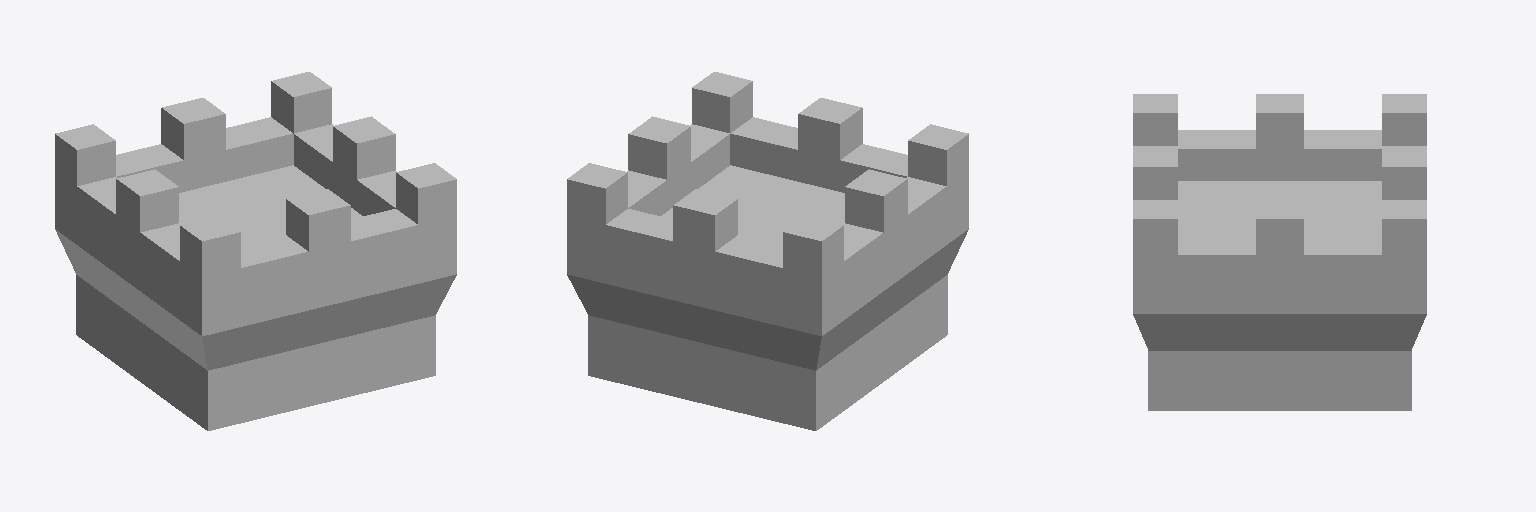
Rendered from towerDefense_002.obj.
3 views of the same model, side by side, from view 1: azimuth 30°, elevation 25°; view 2: azimuth 150°, elevation 25°; view 3: azimuth 270°, elevation 25° (orthographic).
Parts seen in each view (by area): view 1: Mesh1 Group1 Model; view 2: Mesh1 Group1 Model; view 3: Mesh1 Group1 Model.
Part boxes in pixels (bbox=[...]): Mesh1 Group1 Model: bbox=[55, 72, 456, 430]; Mesh1 Group1 Model: bbox=[567, 72, 968, 430]; Mesh1 Group1 Model: bbox=[1133, 94, 1426, 410].
Size of the model in its own units: 0.6609 by 0.4926 by 0.6609.